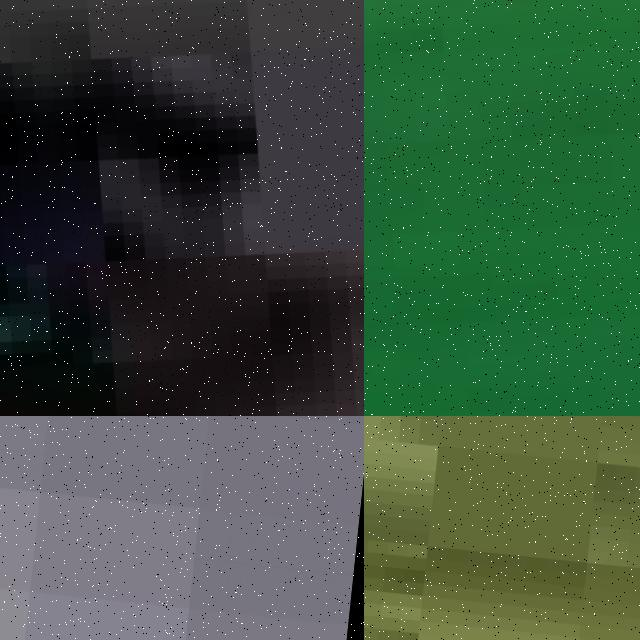drone: (0, 0, 364, 416), (364, 0, 640, 416)
